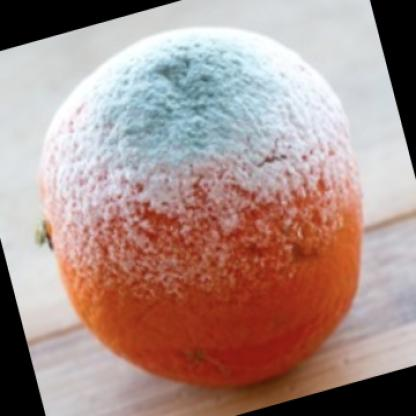rotten: (43, 30, 362, 388)
